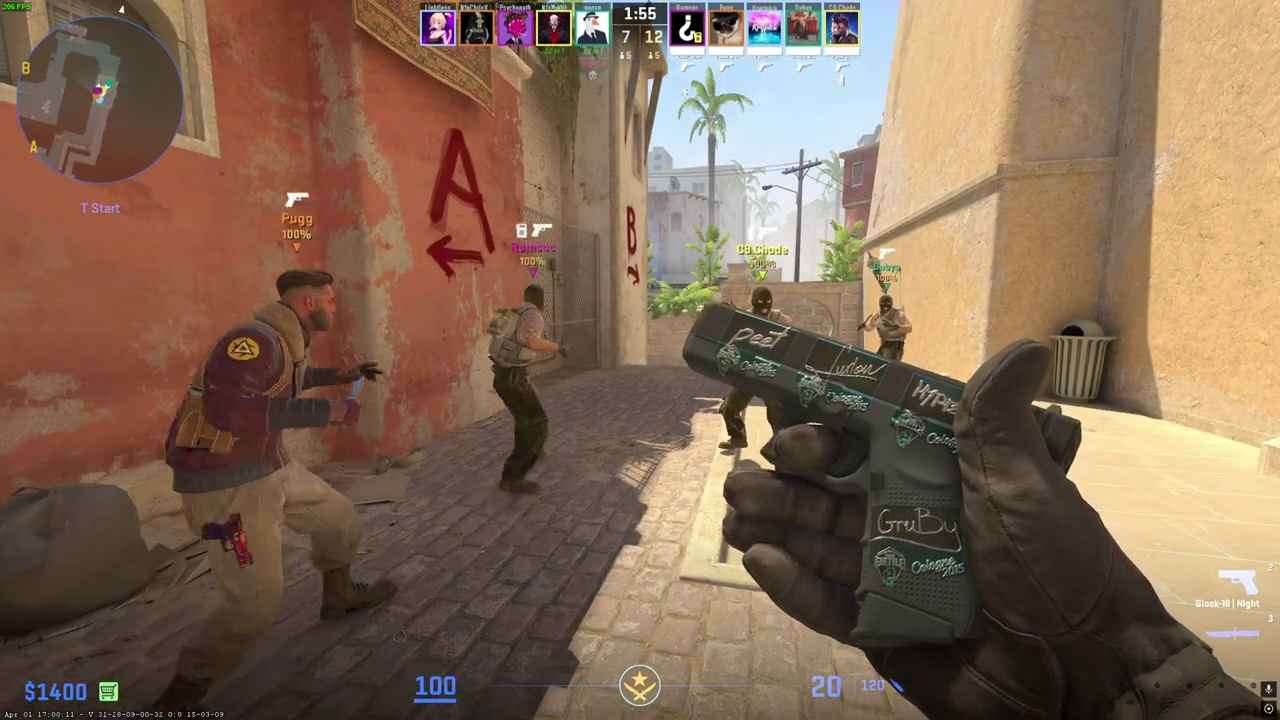Terrorist: (163, 270, 387, 715), (488, 285, 559, 496), (718, 286, 792, 449), (867, 295, 910, 361)
